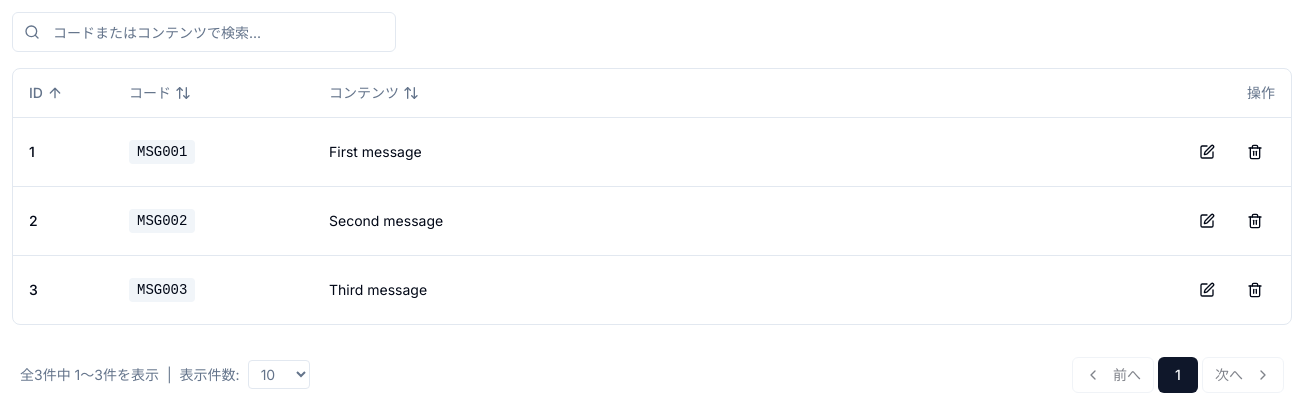
Scenario: MessageTable › 検索機能 › contentで検索できる
The width and height of the screenshot is (1292, 410).
Type "First" into the field with test id "search-input" at (204, 32), box left=12, top=12, right=396, bottom=52
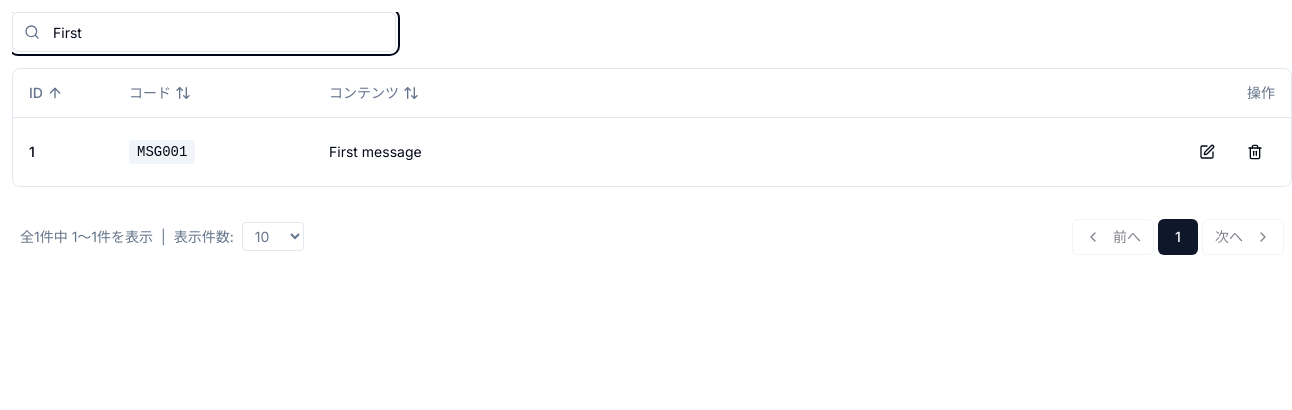
Check: the text "First message" is shown, box left=313, top=117, right=1141, bottom=186
Check: the text "Second message" is gone
Check: the text "Third message" is gone
